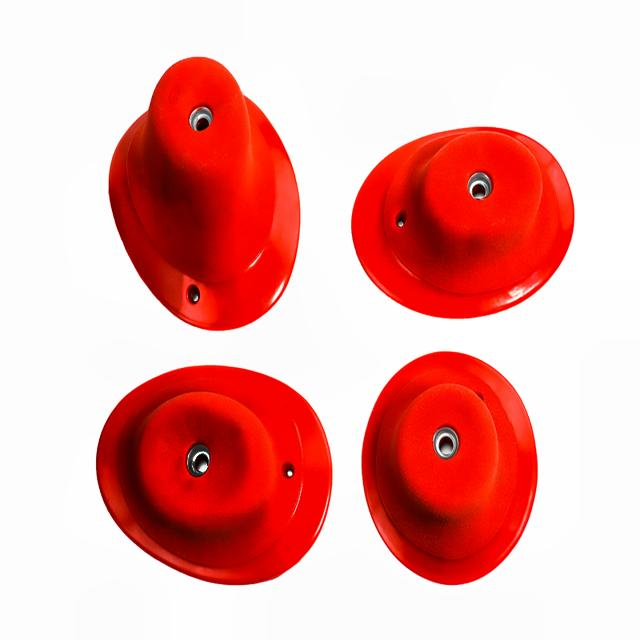Hold: (109, 56, 300, 332), (94, 365, 330, 588), (356, 119, 576, 319), (358, 351, 538, 586)
